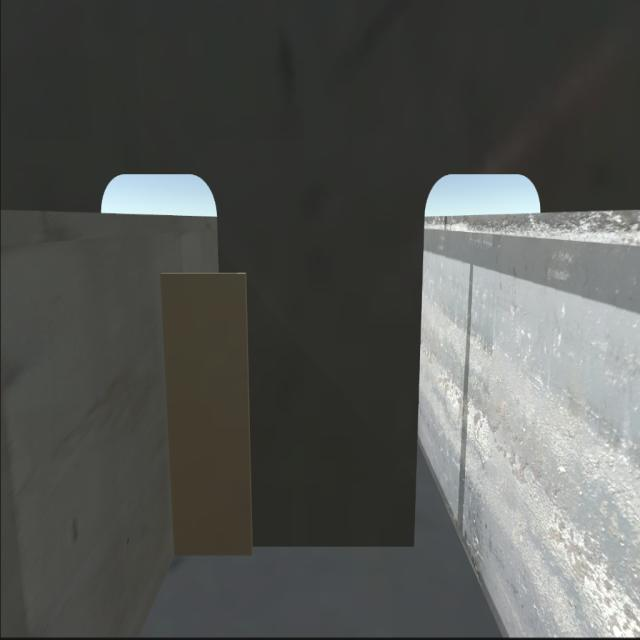fillet_yong_jeop_jang: (176, 534, 423, 567)
longi_yong_jeop_jang: (150, 262, 188, 564)
plate_CP01: (162, 269, 257, 560)
